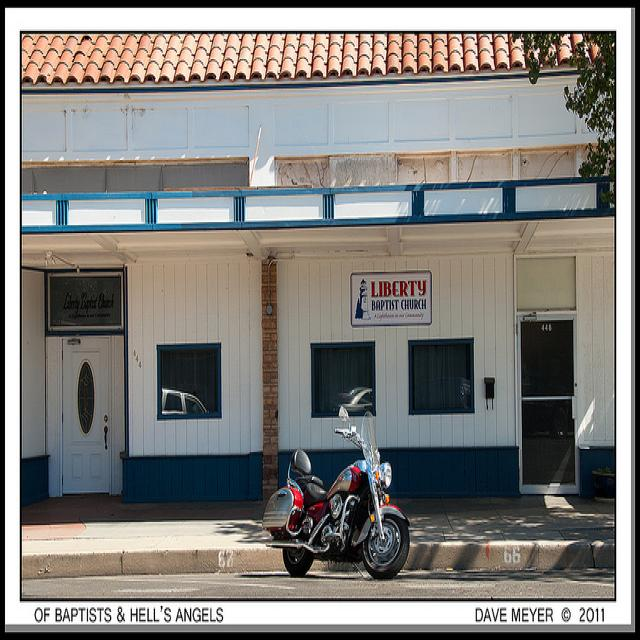motor: (261, 404, 413, 579)
